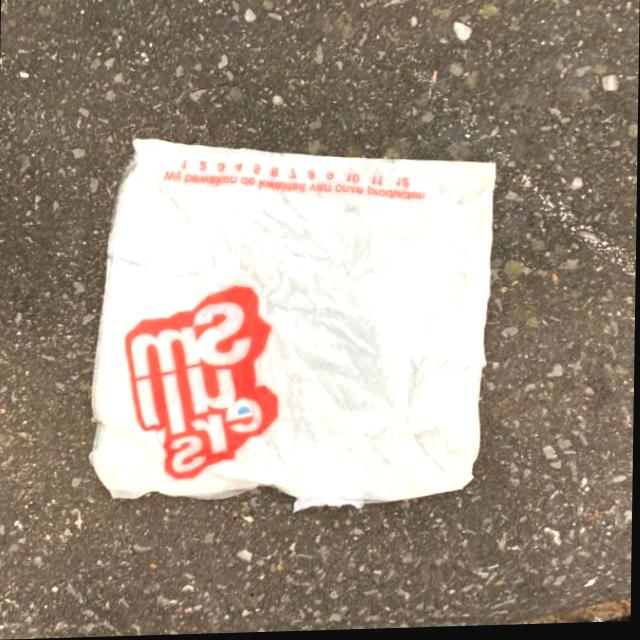Paper: (84, 129, 499, 517)
